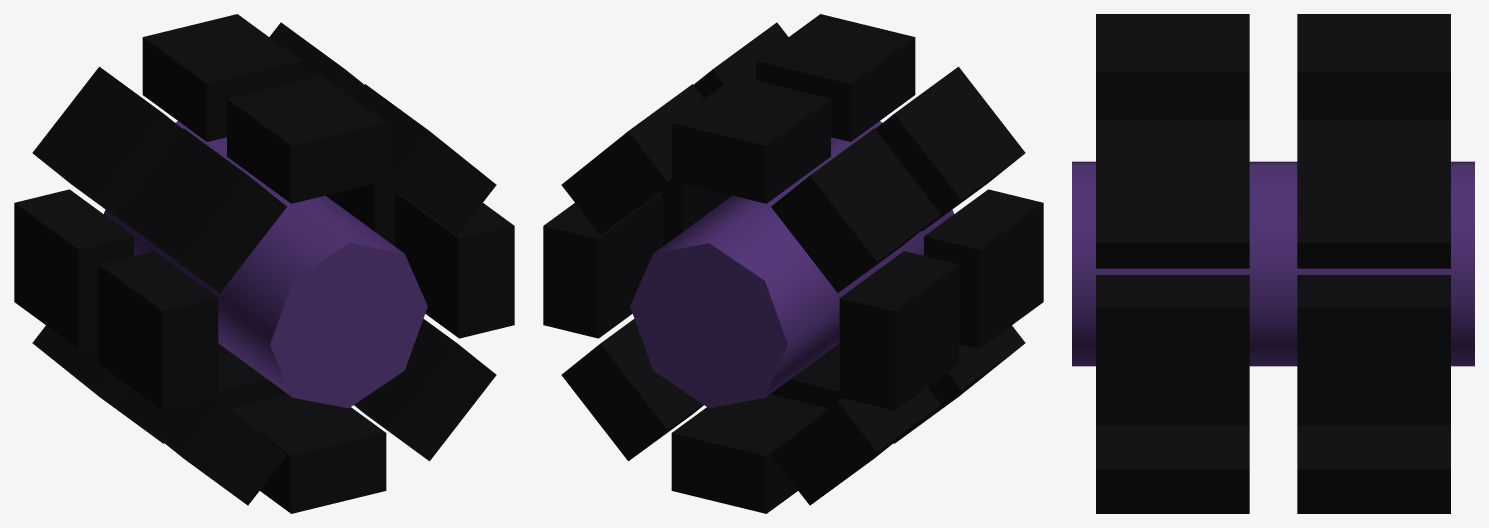
The model's file is h80_field.obj.
3 renders of one model, left to right at view 1: azimuth 30°, elevation 25°; view 2: azimuth 150°, elevation 25°; view 3: azimuth 270°, elevation 25°, orthographic. The views are drawn at different scales.
Parts seen in each view (by area): view 1: h80_field; view 2: h80_field; view 3: h80_field.
Boxes of the visible parts, x1=… form: h80_field: x1=14, y1=14, x2=514, y2=513; h80_field: x1=543, y1=14, x2=1043, y2=513; h80_field: x1=1072, y1=14, x2=1474, y2=513.
Bounding box in the file's own units: 4.49 × 4.49 × 3.73.
